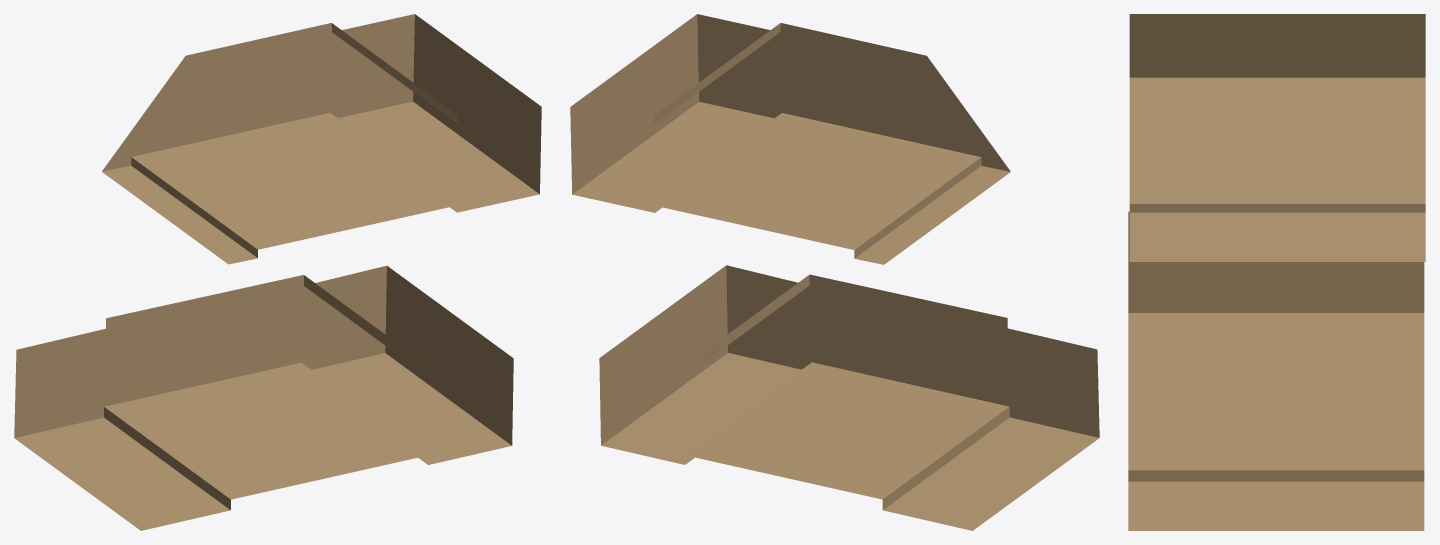
3 renders of one model, left to right at view 1: azimuth 30°, elevation 25°; view 2: azimuth 150°, elevation 25°; view 3: azimuth 270°, elevation 25°, orthographic. The views are drawn at different scales.
Parts seen in each view (by area): view 1: 0_0_3_1_2_0_3_0_3; view 2: 0_0_3_1_2_0_3_0_3; view 3: 0_0_3_1_2_0_3_0_3.
Boxes of the visible parts, <box> form: 0_0_3_1_2_0_3_0_3: <box>14,14,541,530</box>; 0_0_3_1_2_0_3_0_3: <box>570,14,1099,530</box>; 0_0_3_1_2_0_3_0_3: <box>1128,14,1425,530</box>.
Bounding box in the file's own units: 43.84 × 36.08 × 24.1.
